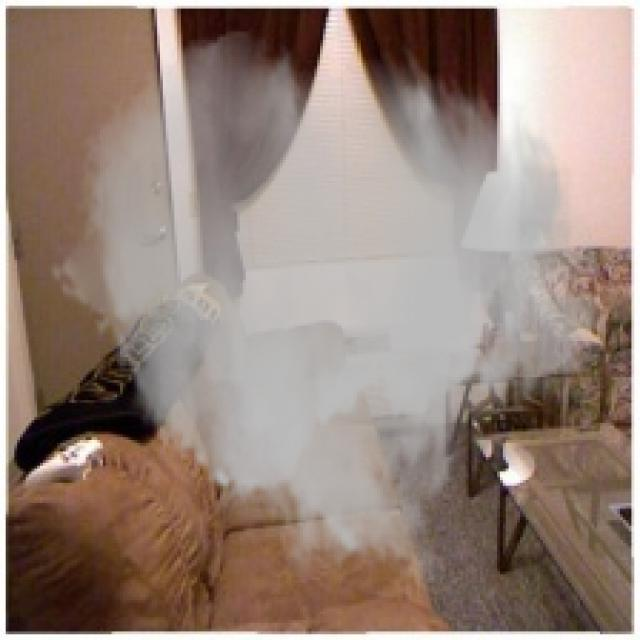Smoke: (48, 26, 603, 594)
